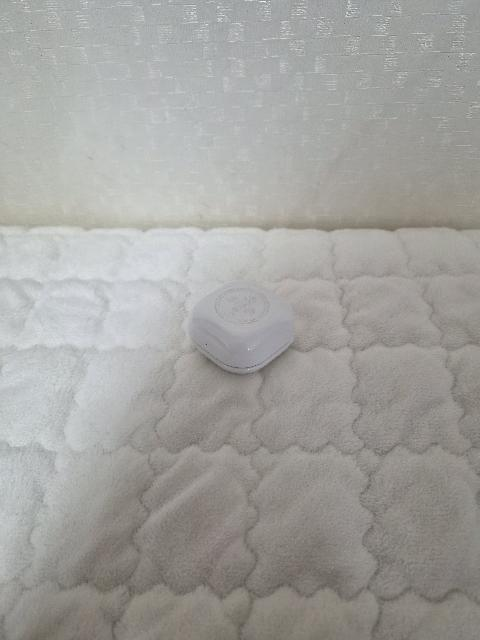earphone_case: (188, 280, 295, 374)
